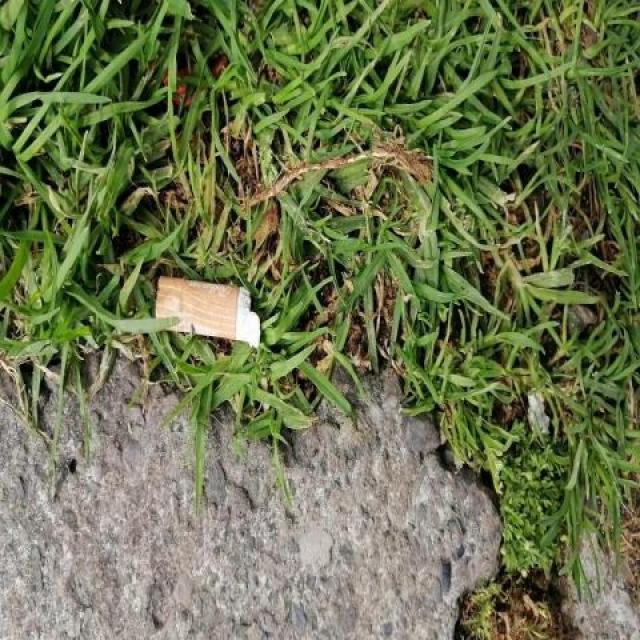non-organic waste: (150, 267, 266, 354)
